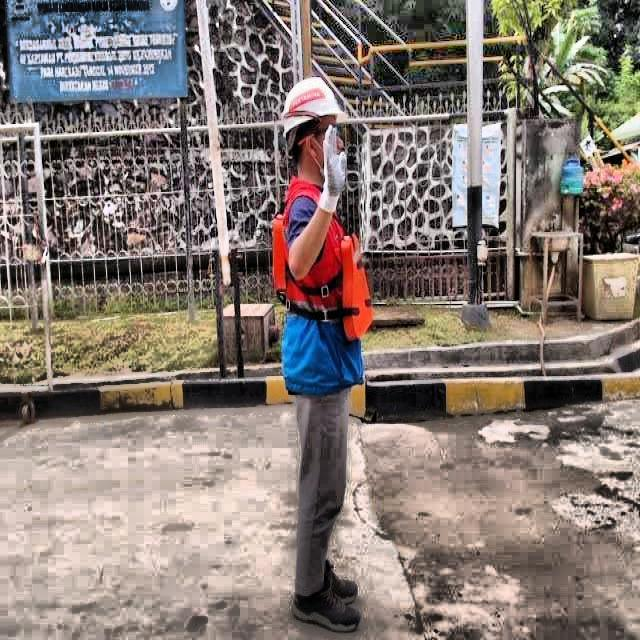safety_helmet: (274, 71, 352, 144)
safety_jacket: (269, 174, 382, 366)
